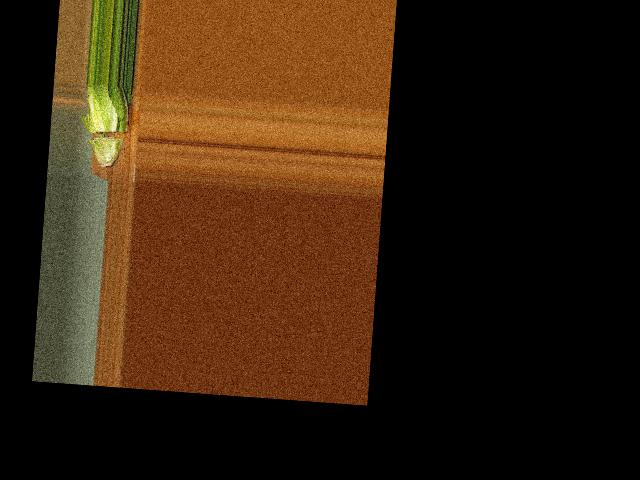lettuce: (79, 84, 135, 167)
